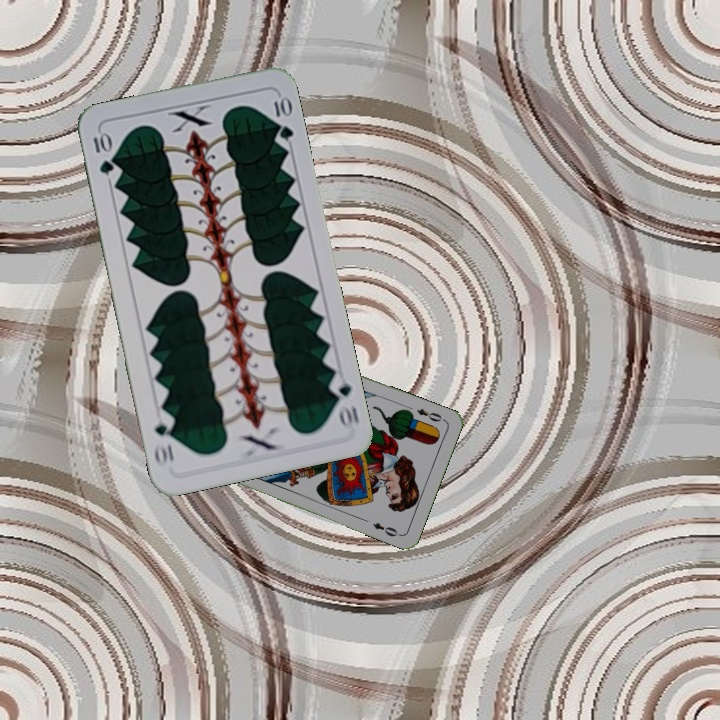EO: (412, 404, 448, 424)
G10: (325, 372, 362, 430), (89, 128, 116, 178)
